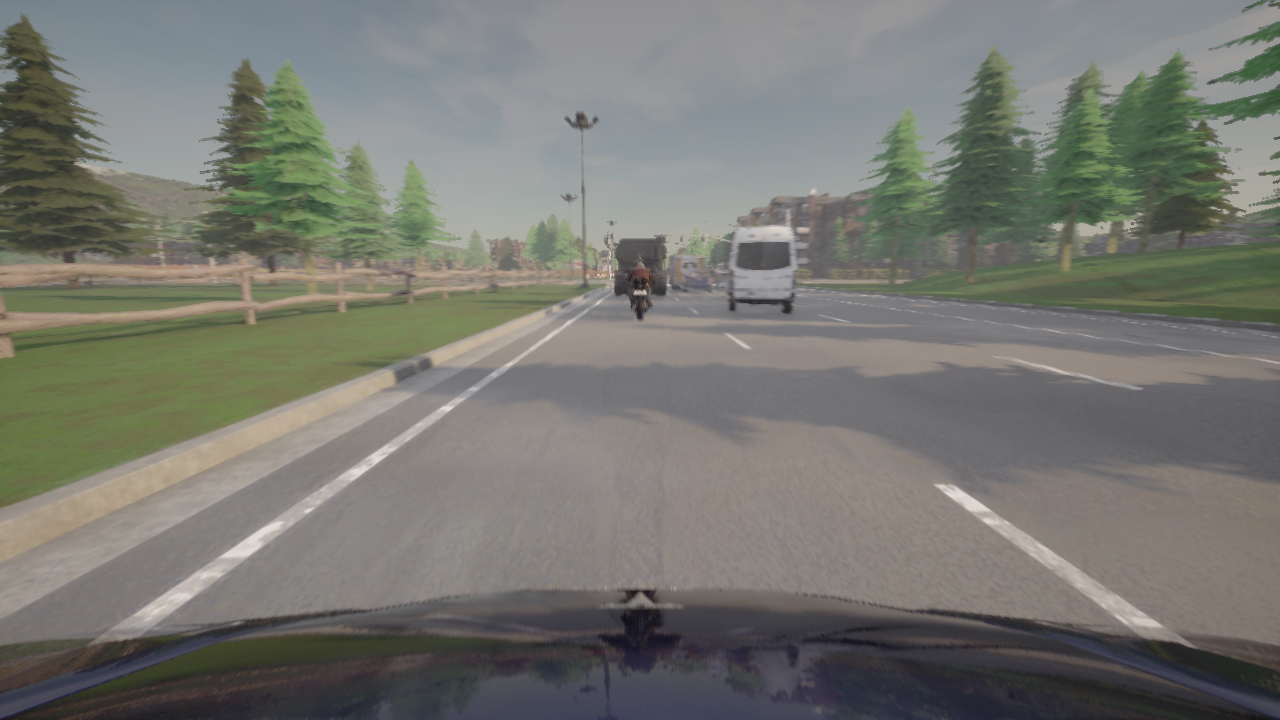cyclist: (0, 588, 1279, 719), (723, 227, 795, 312), (615, 237, 665, 295), (625, 274, 654, 320), (667, 256, 705, 289), (680, 268, 711, 293), (714, 262, 729, 289)
